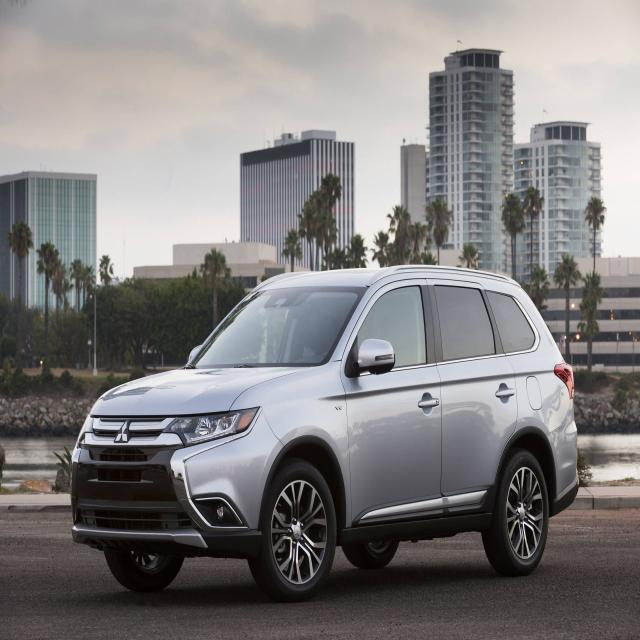light_vehicle: (70, 264, 580, 602)
